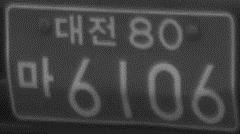0: (146, 61, 184, 120), (158, 16, 182, 52)
1: (117, 57, 135, 120)
6: (190, 63, 226, 125), (66, 56, 100, 118)
8: (127, 16, 153, 49)
대전_O: (53, 14, 116, 48)
마: (16, 55, 54, 100)
